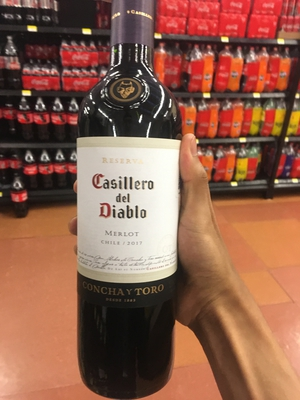casillero del diablo merlot: (69, 11, 195, 400)
